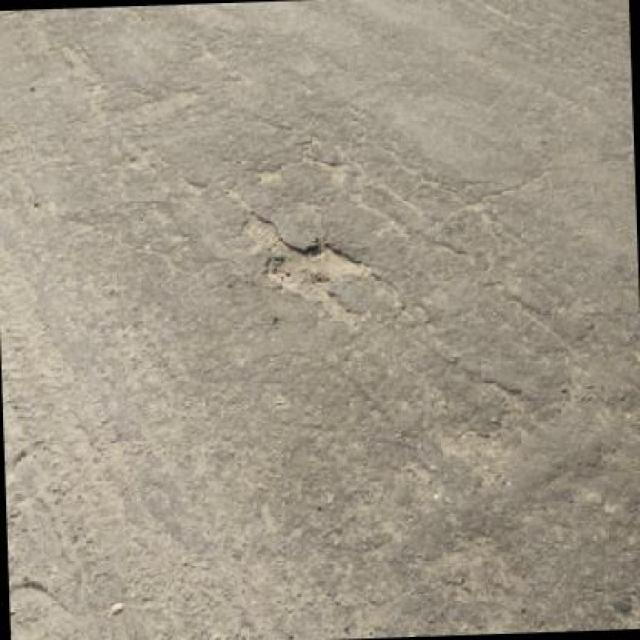pothole1: (260, 236, 378, 302), (238, 211, 282, 243)
